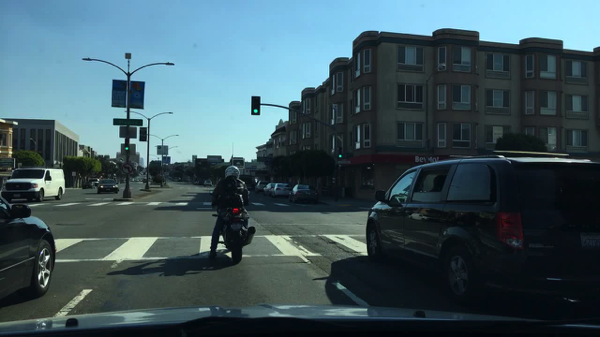car: (365, 147, 599, 319), (0, 193, 57, 308), (4, 167, 66, 203), (287, 184, 320, 204), (270, 182, 293, 199), (97, 178, 120, 193), (254, 180, 270, 194), (262, 183, 275, 196), (81, 180, 96, 190), (90, 177, 101, 186), (203, 180, 213, 187), (197, 180, 205, 186), (119, 180, 125, 185), (192, 180, 198, 185), (129, 178, 134, 183), (175, 177, 180, 182), (135, 179, 139, 183), (171, 177, 175, 181), (148, 176, 151, 180), (144, 177, 147, 181), (140, 179, 143, 182), (135, 177, 138, 180), (138, 178, 140, 182), (169, 176, 171, 180)
motor: (212, 188, 255, 263)
rider: (208, 166, 254, 259)
traffic light: (251, 96, 260, 116), (338, 146, 343, 158), (125, 144, 130, 155)
traffic sign: (113, 118, 143, 126), (118, 127, 137, 138), (121, 144, 136, 155), (122, 163, 134, 175), (140, 127, 146, 142), (72, 172, 77, 176)
